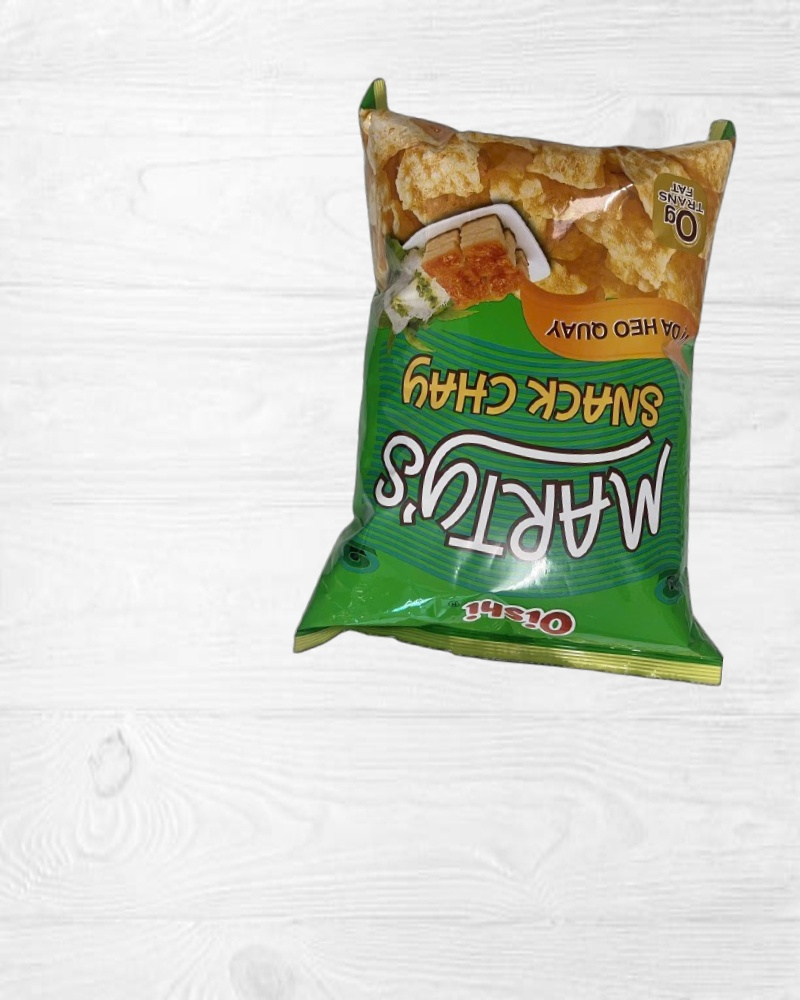Snack chay: (314, 79, 770, 691)
